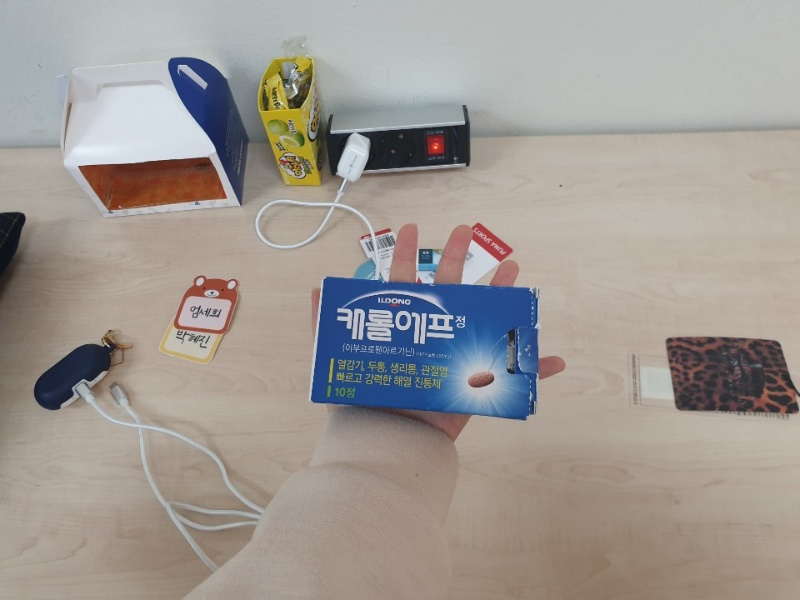carolF: (309, 276, 540, 420)
